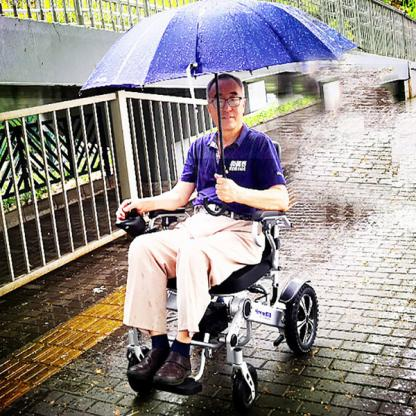wheelchair: (113, 69, 323, 406)
